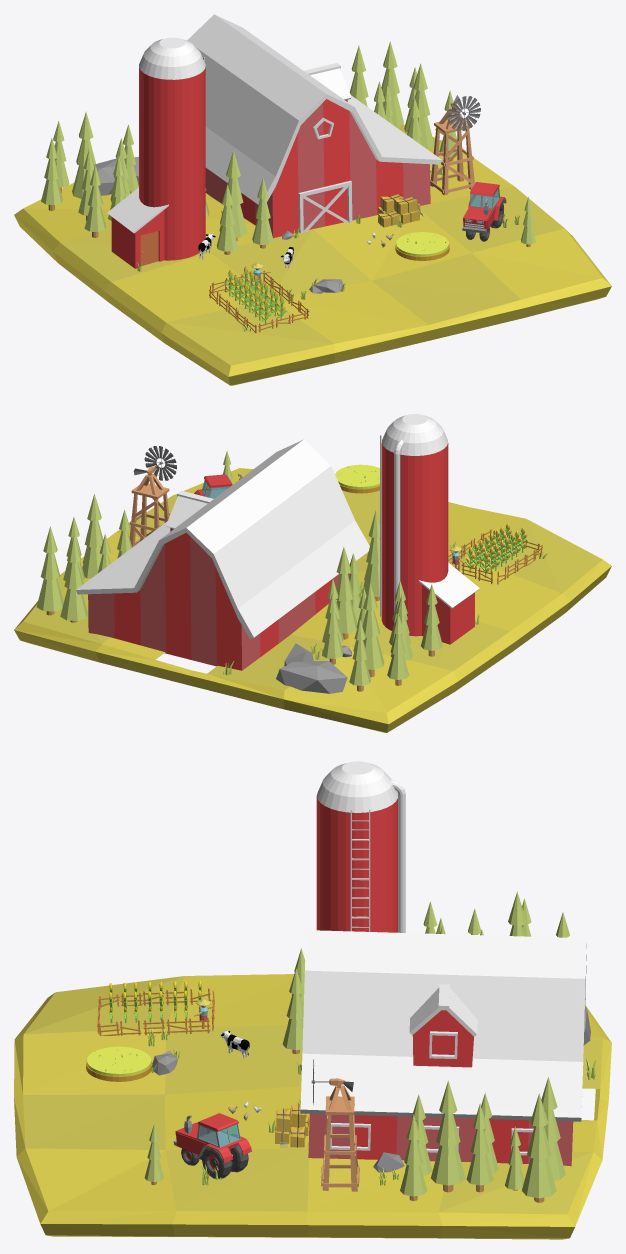
Rendered from farmStage.glb.
3 views of the same model, one above another, from view 1: azimuth 30°, elevation 25°; view 2: azimuth 150°, elevation 25°; view 3: azimuth 270°, elevation 25° (orthographic). The views are drawn at different scales.
Visible parts, largest first — view 1: Object_20, Object_17, Object_28, Object_31, Object_32, Object_14, Object_10, Object_18, Object_8, Object_39, Object_13, Object_22 (+7 smaller); view 2: Object_28, Object_20, Object_31, Object_32, Object_17, Object_14, Object_10, Object_39, Object_18, Object_8, Object_13, footing_02 (+2 smaller); view 3: Object_20, Object_28, Object_17, Object_31, Object_32, Object_10, Object_14, Object_18, Object_24, Object_13, footing_02, Object_12 (+5 smaller).
Part boxes in pixels (bbox=[...]): Object_20: bbox=[14, 152, 611, 385]; Object_17: bbox=[61, 124, 564, 365]; Object_28: bbox=[187, 14, 442, 233]; Object_31: bbox=[111, 57, 403, 268]; Object_32: bbox=[41, 41, 535, 251]; Object_14: bbox=[205, 103, 430, 237]; Object_10: bbox=[107, 37, 205, 233]; Object_18: bbox=[430, 103, 475, 195]; Object_8: bbox=[223, 269, 287, 325]; Object_39: bbox=[94, 156, 344, 293]; Object_13: bbox=[209, 270, 309, 333]; Object_22: bbox=[378, 194, 420, 227]; Object_28: bbox=[76, 435, 381, 639]; Object_20: bbox=[14, 468, 611, 732]; Object_31: bbox=[114, 443, 474, 670]; Object_32: bbox=[36, 451, 442, 685]; Object_17: bbox=[23, 490, 602, 689]; Object_14: bbox=[88, 536, 350, 670]; Object_10: bbox=[382, 414, 479, 622]; Object_39: bbox=[276, 643, 351, 693]; Object_18: bbox=[129, 466, 169, 547]; Object_8: bbox=[464, 526, 529, 577]; Object_13: bbox=[448, 529, 542, 584]; footing_02: bbox=[335, 464, 379, 488]; Object_20: bbox=[14, 974, 611, 1239]; Object_28: bbox=[300, 809, 586, 1155]; Object_17: bbox=[23, 976, 602, 1214]; Object_31: bbox=[316, 796, 572, 1163]; Object_32: bbox=[144, 891, 569, 1198]; Object_10: bbox=[317, 761, 405, 932]; Object_14: bbox=[308, 1113, 573, 1166]; Object_18: bbox=[321, 1078, 359, 1191]; Object_24: bbox=[175, 1113, 251, 1170]; Object_13: bbox=[97, 988, 214, 1035]; footing_02: bbox=[87, 1046, 151, 1076]; Object_12: bbox=[181, 1144, 248, 1178].
Size of the model in its own units: 88.69 by 48.93 by 91.34.
